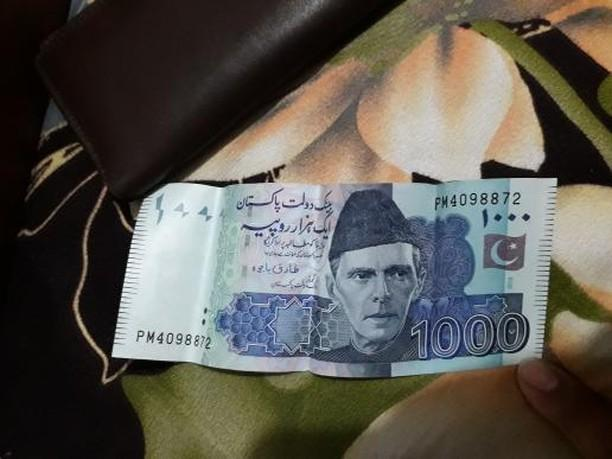1000 rupee: (113, 147, 575, 390)
